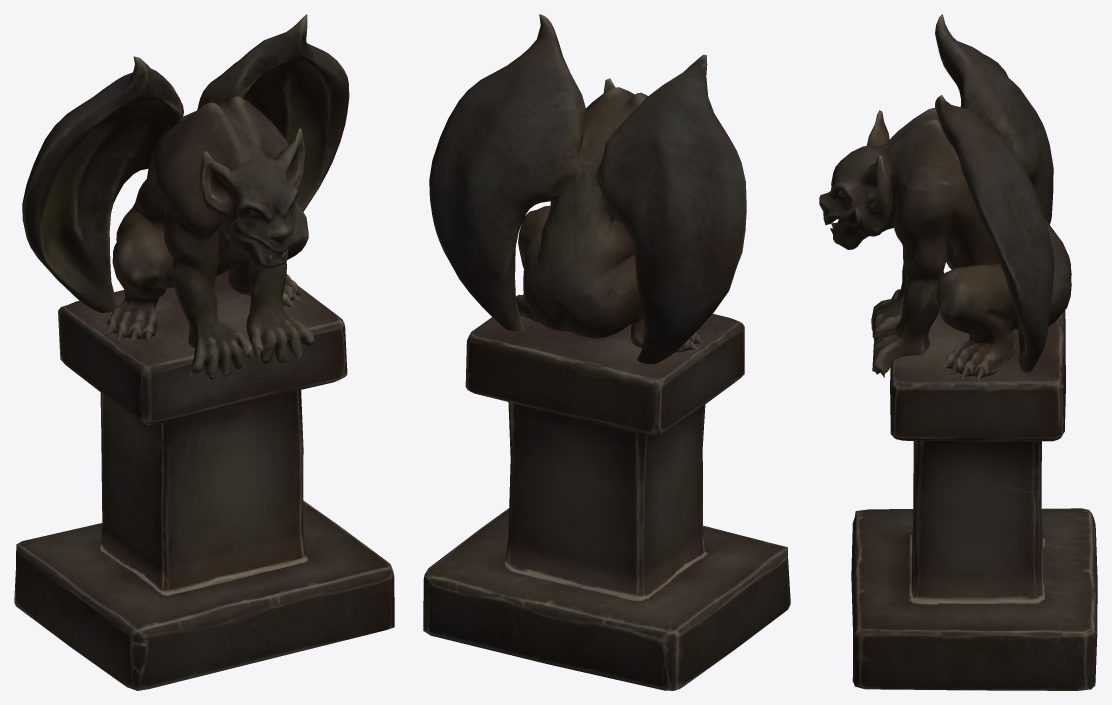
File: gargoyle_8_5k_tris.glb
3 views of the same model, side by side, from view 1: azimuth 30°, elevation 25°; view 2: azimuth 150°, elevation 25°; view 3: azimuth 270°, elevation 25° (orthographic). The views are drawn at different scales.
Parts seen in each view (by area): view 1: SM_gargoyle; view 2: SM_gargoyle; view 3: SM_gargoyle.
Boxes of the visible parts, <box> form: SM_gargoyle: <box>14,14,394,690</box>; SM_gargoyle: <box>423,14,790,690</box>; SM_gargoyle: <box>819,14,1097,690</box>.
Size of the model in its own units: 1.09 by 1.92 by 0.8439.
1 material, 1 textured.
